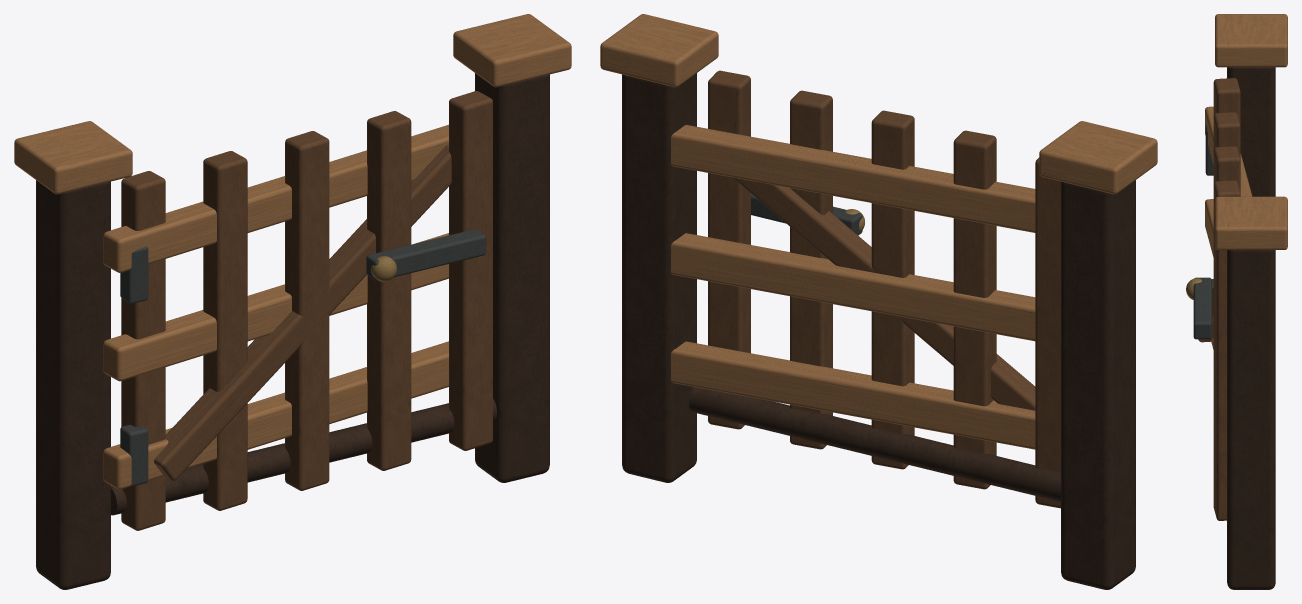
Rendered from fence_gate.glb.
The picture shows the model from 3 angles, left to right: view 1: azimuth 30°, elevation 25°; view 2: azimuth 150°, elevation 25°; view 3: azimuth 270°, elevation 25°; orthographic projection. The views are drawn at different scales.
Parts seen in each view (by area): view 1: fence_gate; view 2: fence_gate; view 3: fence_gate.
Boxes of the visible parts, x1,y1,x2,y2 form: fence_gate: (14, 14, 571, 589); fence_gate: (600, 14, 1157, 589); fence_gate: (1186, 14, 1287, 589).
Size of the model in its own units: 1.5 by 1.2 by 0.3.
Materials: 1 (1 with a texture image).
